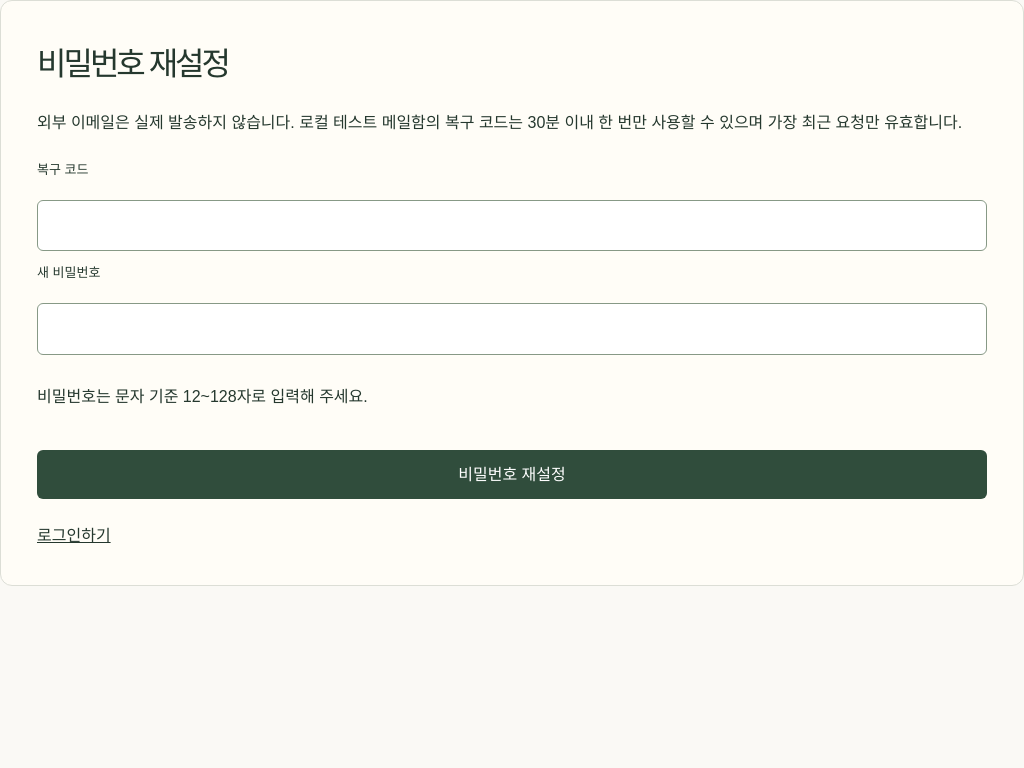
Test case: 비밀번호 길이를 검증하고 실패 응답의 요청 ID를 표시하며 민감한 입력을 지운다
Type "test-token" into the field labelled "복구 코드" at coordinates (512, 226), box [37,200,987,251]
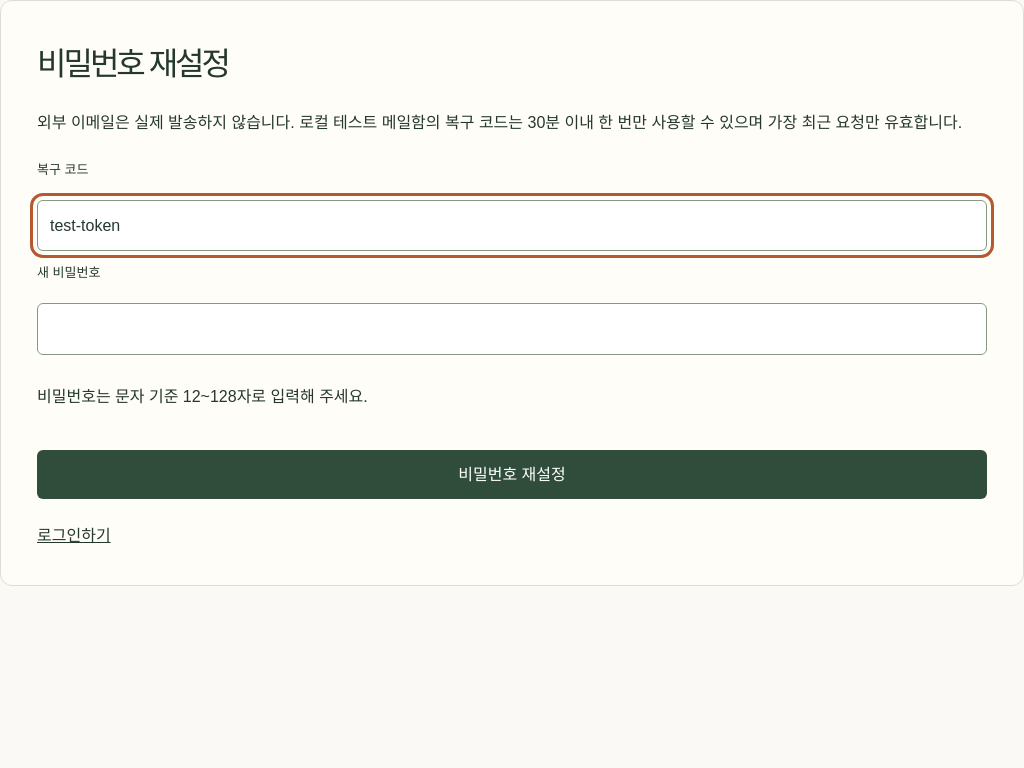
Type "short" into the password field labelled "새 비밀번호" at coordinates (512, 329), box [37,303,987,355]
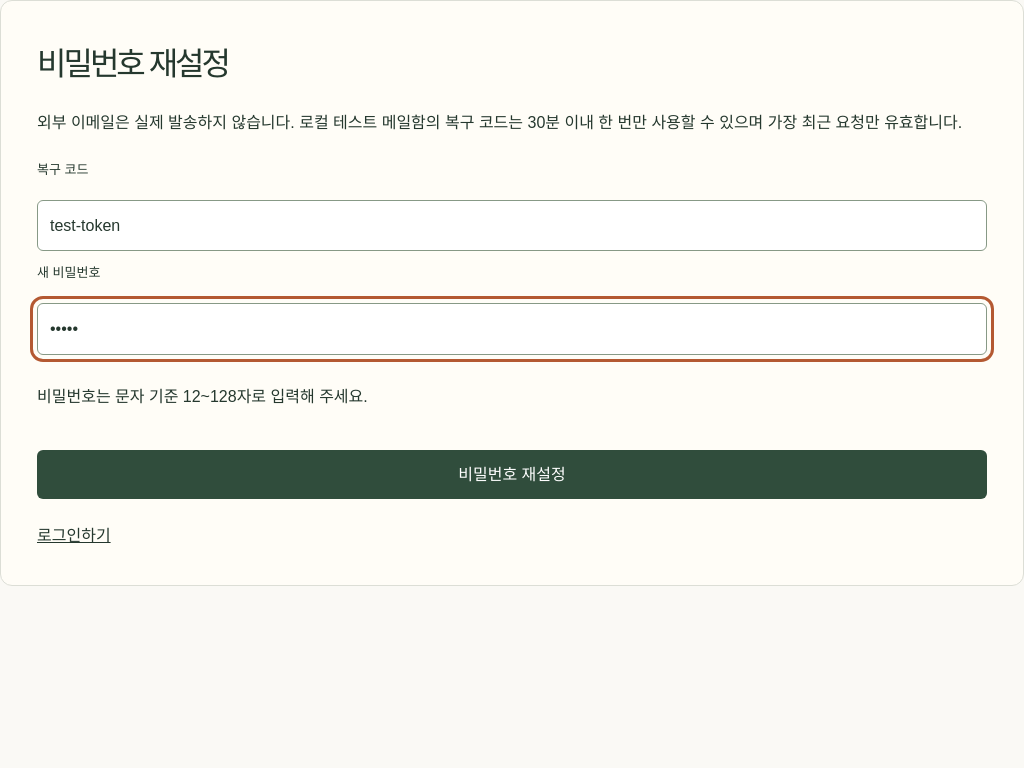
Click the button "비밀번호 재설정" at coordinates (512, 475), box [37,450,987,499]
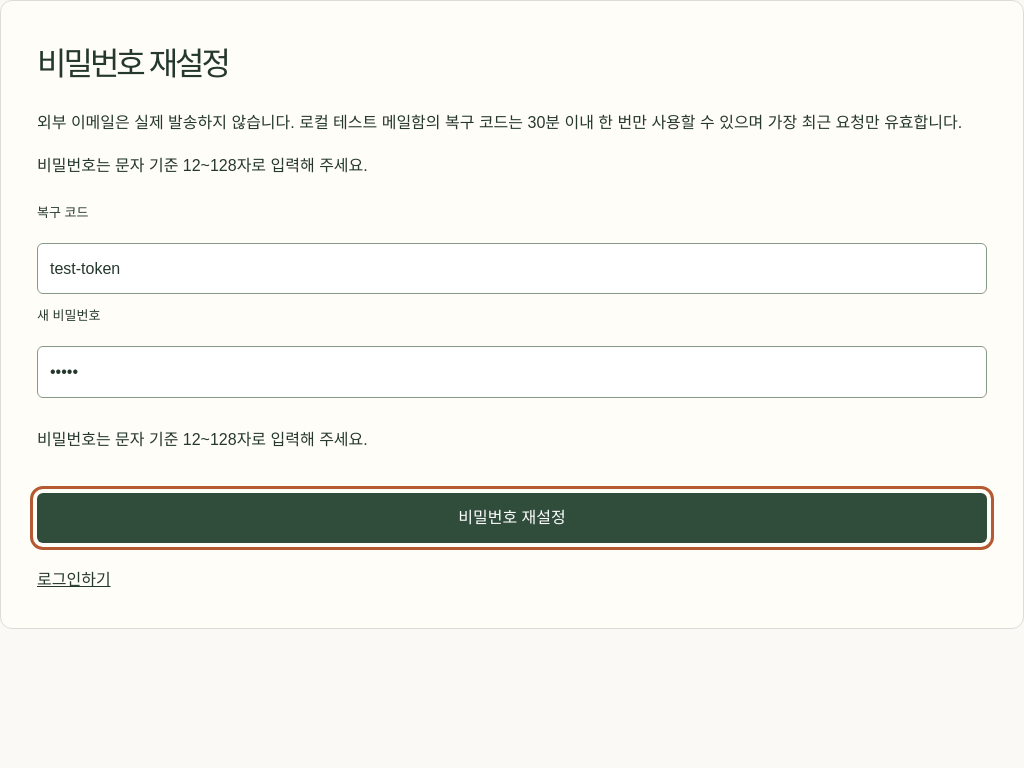
expect the message shows "12~128": met, box [37,157,368,174]
Type "new-password-123" into the password field labelled "새 비밀번호" at coordinates (512, 372), box [37,346,987,398]
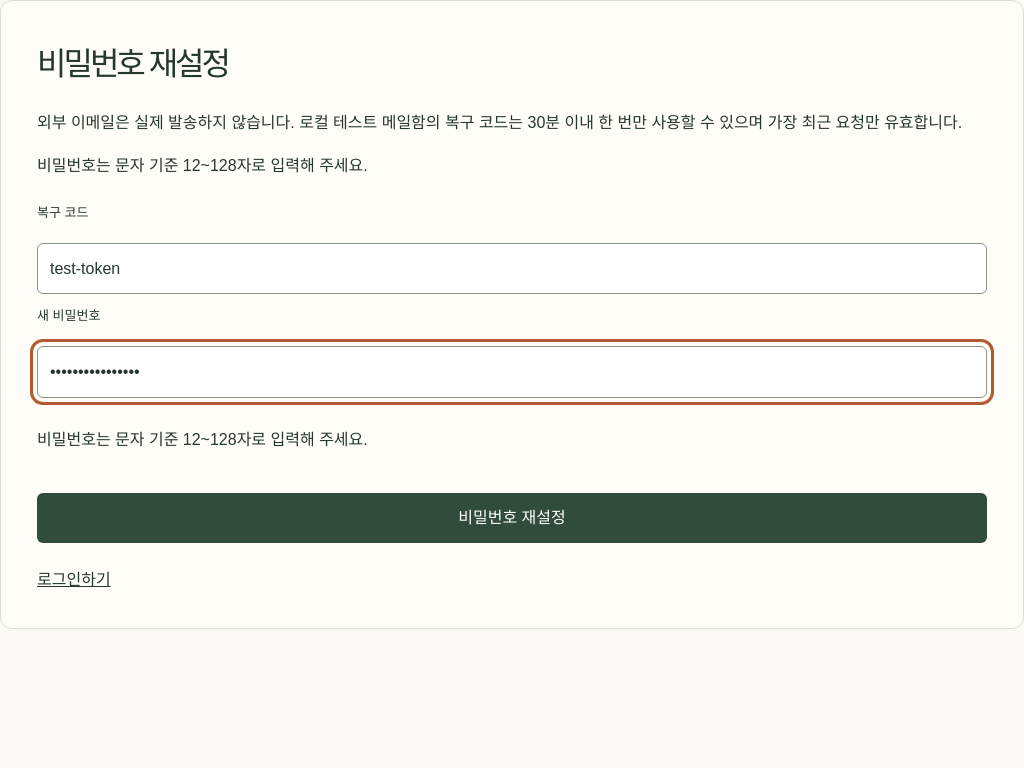
Click the button "비밀번호 재설정" at coordinates (512, 518), box [37,493,987,543]
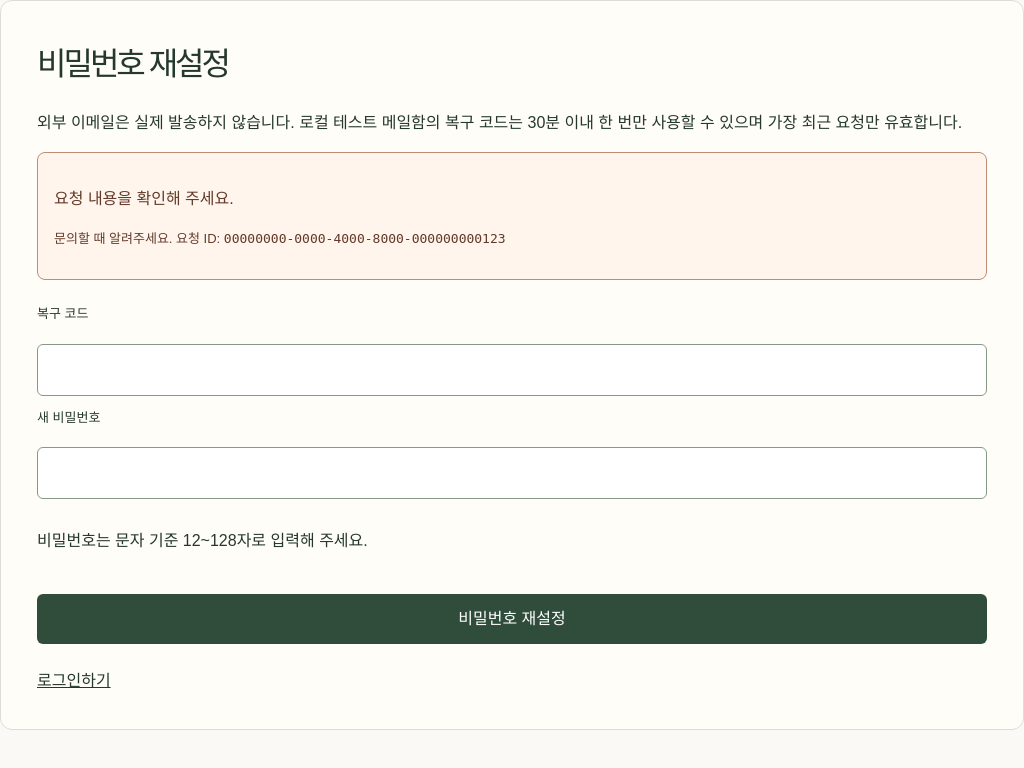
expect the text "00000000-0000-4000-8000-000000000123" is shown: met, box [224,231,506,246]
expect the field labelled "복구 코드" is empty: met, box [37,344,987,396]
